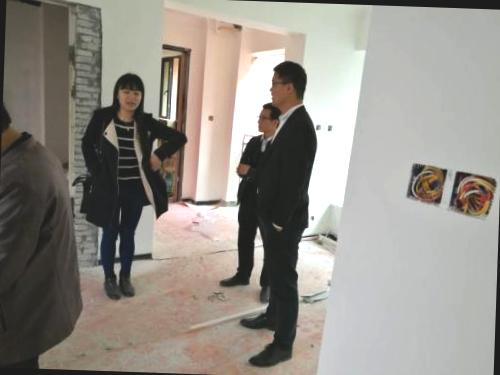no_helmet: (265, 58, 312, 113), (250, 92, 289, 140), (112, 68, 150, 114)
